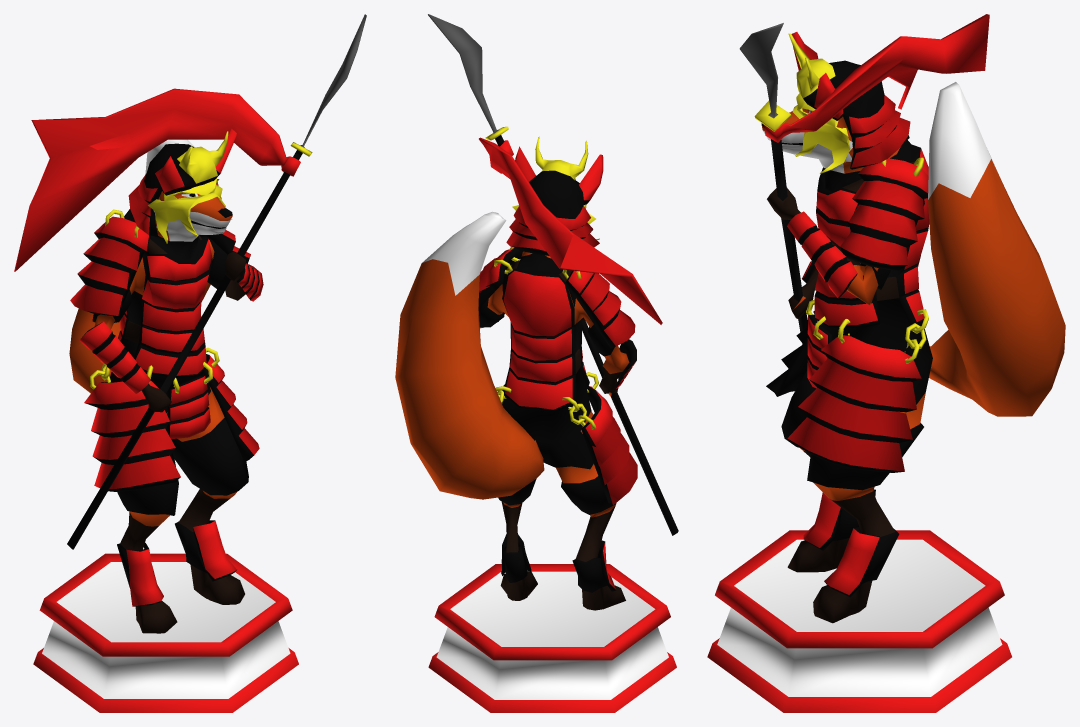
The model's file is veteran.FBX.
3 renders of one model, left to right at view 1: azimuth 30°, elevation 25°; view 2: azimuth 150°, elevation 25°; view 3: azimuth 270°, elevation 25°, orthographic. The views are drawn at different scales.
Parts seen in each view (by area): view 1: veteran; view 2: veteran; view 3: veteran.
Part boxes in pixels (<box>): veteran: <box>14,14,366,712</box>; veteran: <box>395,14,678,712</box>; veteran: <box>707,14,1065,712</box>.
Size of the model in its own units: 48.88 by 98.23 by 43.88.
